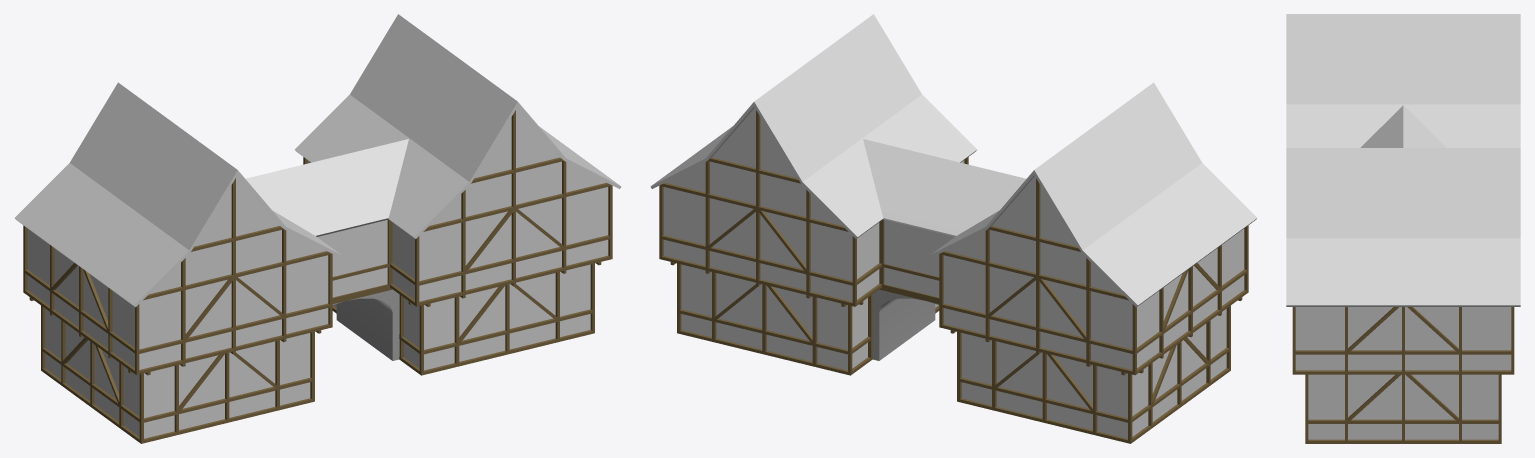
Rendered from HouseConnecting.fbx.
The picture shows the model from 3 angles, left to right: view 1: azimuth 30°, elevation 25°; view 2: azimuth 150°, elevation 25°; view 3: azimuth 270°, elevation 25°; orthographic projection. The views are drawn at different scales.
Visible parts, largest first — view 1: HouseBase2, HouseBase3, HouseLeft_Frame, StoneArch1; view 2: HouseBase2, HouseBase3, HouseLeft_Frame, StoneArch1; view 3: HouseBase3, HouseBase2, HouseLeft_Frame.
Boxes of the visible parts, x1,y1,x2,y2 form: HouseBase2: [15, 82, 408, 438]; HouseBase3: [294, 14, 621, 370]; HouseLeft_Frame: [23, 110, 612, 443]; StoneArch1: [332, 289, 399, 360]; HouseBase2: [863, 82, 1256, 438]; HouseBase3: [650, 14, 977, 370]; HouseLeft_Frame: [659, 110, 1248, 443]; StoneArch1: [872, 289, 939, 360]; HouseBase3: [1286, 148, 1520, 439]; HouseBase2: [1286, 14, 1520, 147]; HouseLeft_Frame: [1292, 307, 1514, 443].
Size of the model in its own units: 87.02 by 44.34 by 37.
